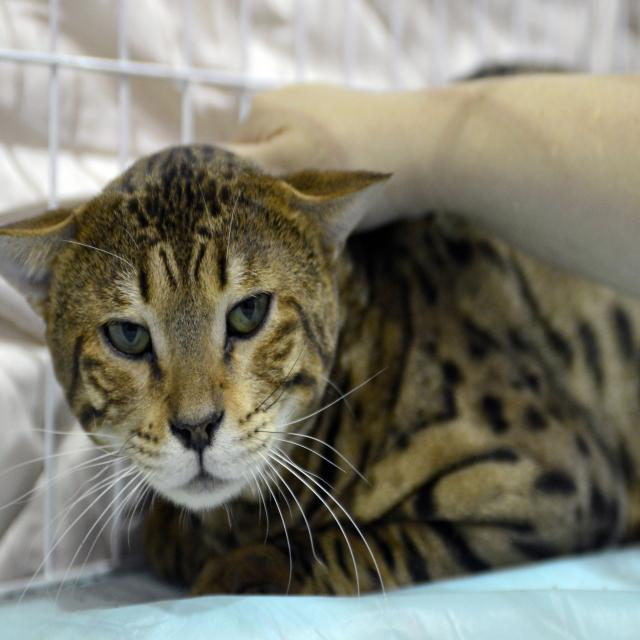Savannah: (0, 136, 640, 604)
